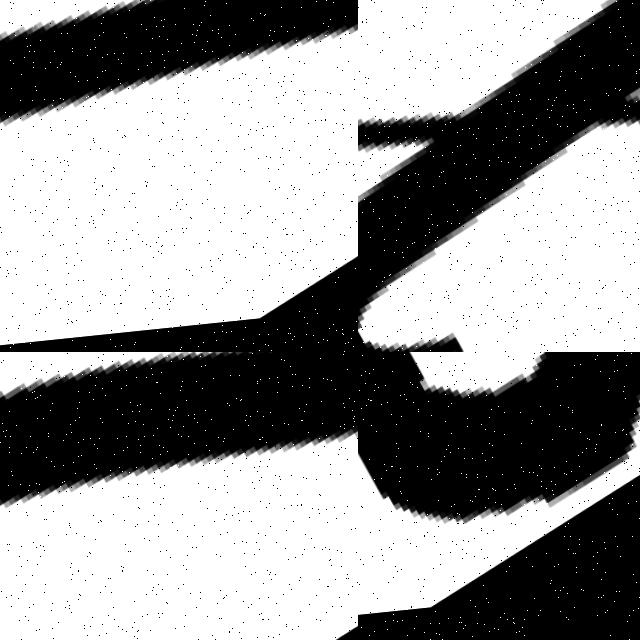1: (0, 352, 358, 640)
E: (358, 352, 640, 535)
L: (0, 0, 358, 333)
X: (358, 0, 640, 352)
